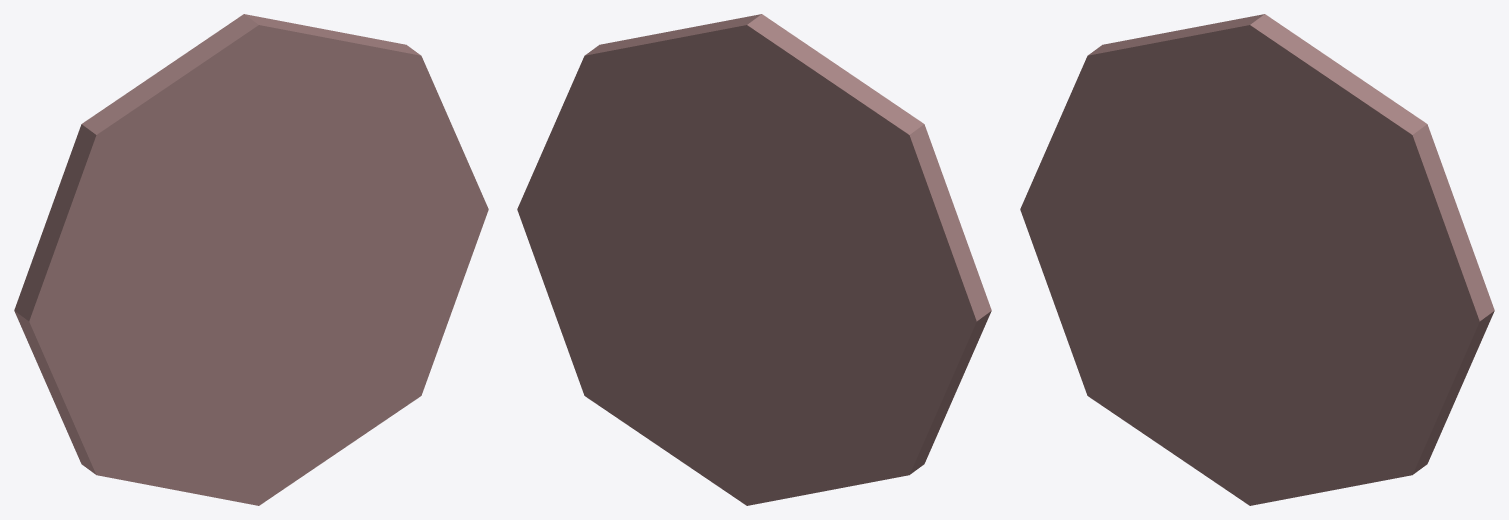
The model's file is RingTriggerCollider01.FBX.
3 views of the same model, side by side, from view 1: azimuth 30°, elevation 25°; view 2: azimuth 150°, elevation 25°; view 3: azimuth 330°, elevation 25° (orthographic).
Parts seen in each view (by area): view 1: RingTriggerCollider01; view 2: RingTriggerCollider01; view 3: RingTriggerCollider01.
Part boxes in pixels (x1=…): RingTriggerCollider01: x1=14, y1=14, x2=488, y2=505; RingTriggerCollider01: x1=517, y1=14, x2=991, y2=505; RingTriggerCollider01: x1=1020, y1=14, x2=1494, y2=505.
Size of the model in its own units: 177 by 177 by 10.
